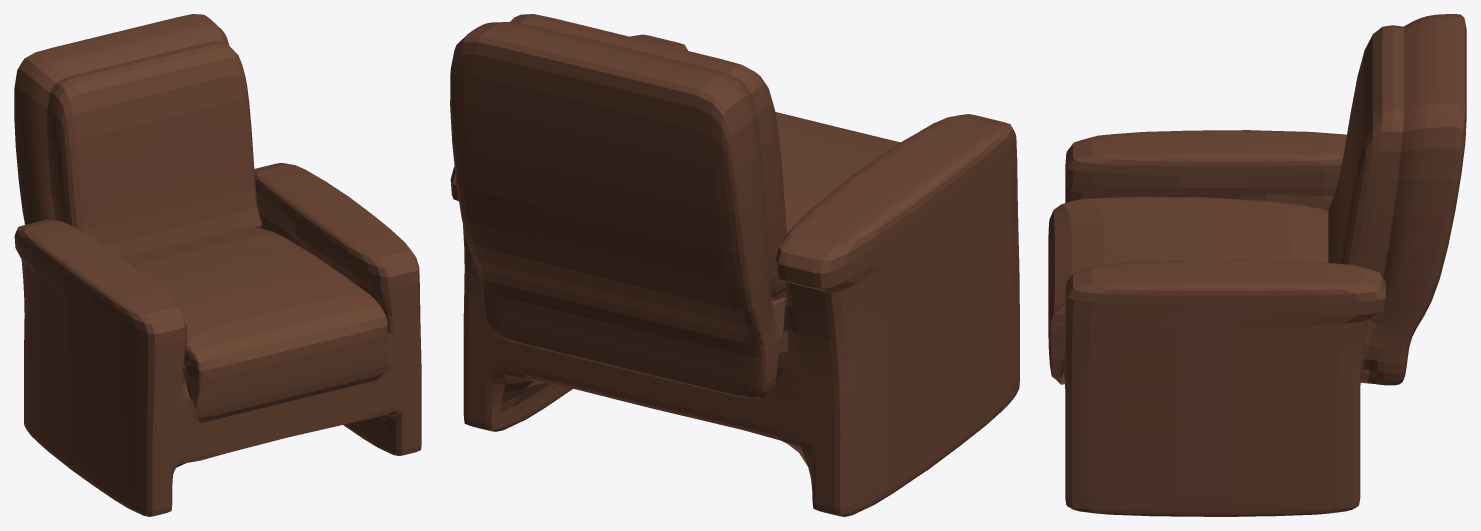
Rendered from Lazy_Boy.fbx.
3 renders of one model, left to right at view 1: azimuth 30°, elevation 25°; view 2: azimuth 150°, elevation 25°; view 3: azimuth 270°, elevation 25°, orthographic. The views are drawn at different scales.
Parts seen in each view (by area): view 1: Lazy boy lookin; view 2: Lazy boy lookin; view 3: Lazy boy lookin.
Boxes of the visible parts, left/top/right/bottom form: Lazy boy lookin: left=14, top=14, right=421, bottom=516; Lazy boy lookin: left=450, top=14, right=1019, bottom=516; Lazy boy lookin: left=1048, top=14, right=1466, bottom=516.
Bounding box in the file's own units: 47.41 × 52.19 × 52.22.
